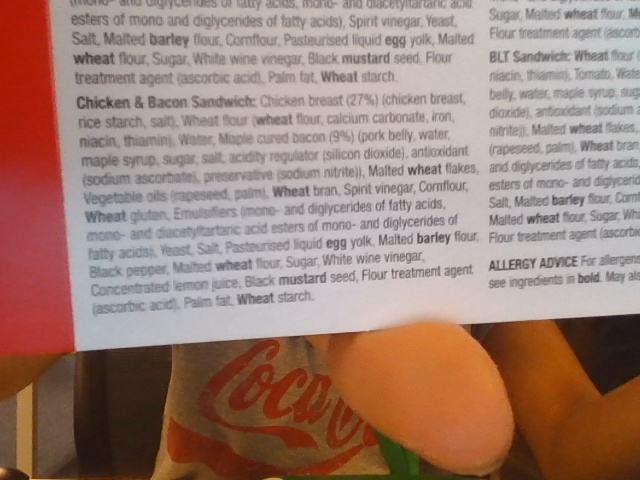egg: (323, 234, 349, 256)
wheat: (84, 206, 131, 230), (71, 51, 116, 70), (237, 288, 277, 306)
